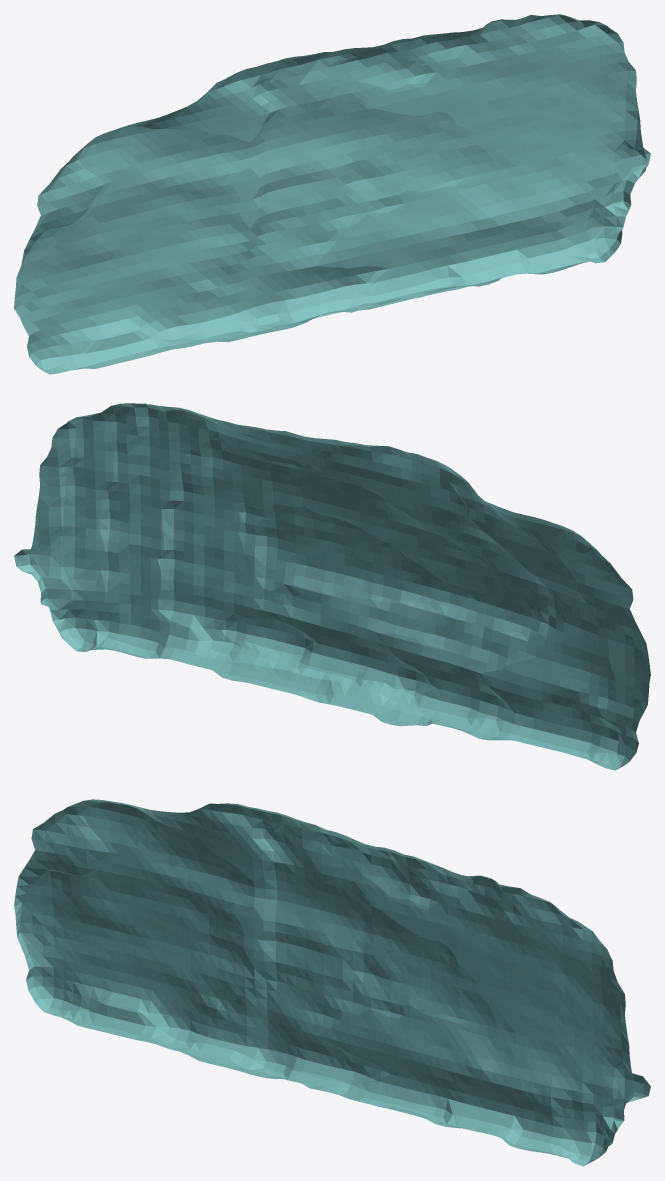
Rendered from 052__RH_Par_L_DtP__full_20fps__surface.glb.
The picture shows the model from 3 angles, top to bottom: view 1: azimuth 30°, elevation 25°; view 2: azimuth 150°, elevation 25°; view 3: azimuth 330°, elevation 25°; orthographic projection.
Parts seen in each view (by area): view 1: world; view 2: world; view 3: world.
Part boxes in pixels (x1,y1,x2,y2): world: (14, 14, 650, 374); world: (14, 403, 650, 770); world: (14, 799, 650, 1166).
Size of the model in its own units: 260 by 108 by 26.57.
